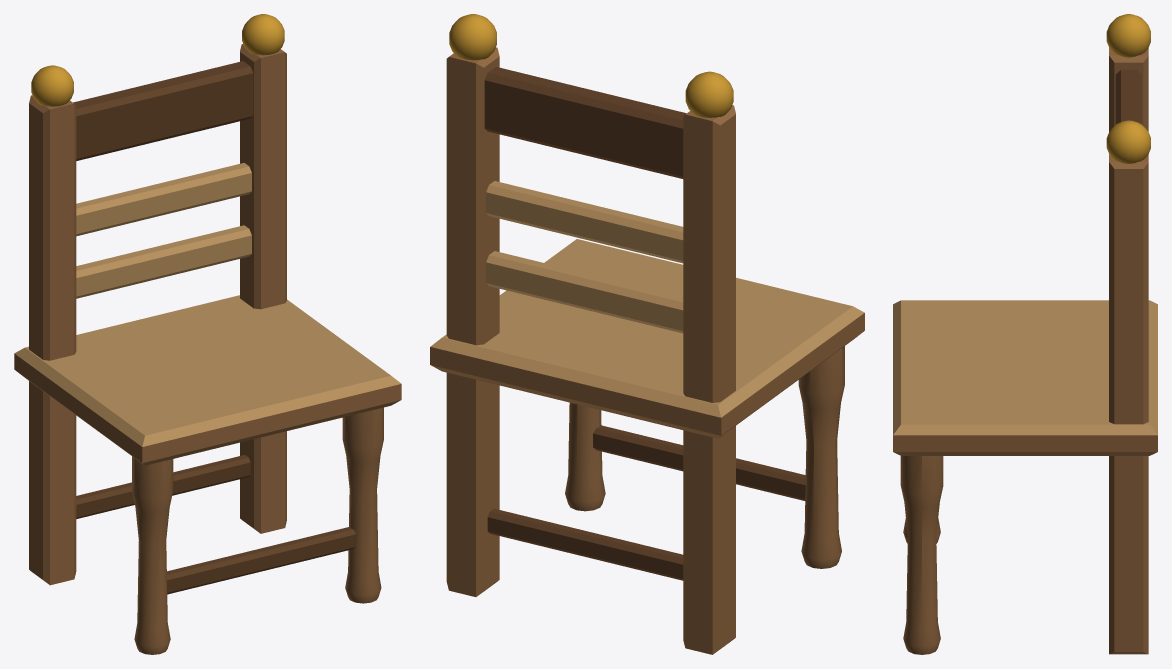
The model's file is Chair_15.glb.
The picture shows the model from 3 angles, left to right: view 1: azimuth 30°, elevation 25°; view 2: azimuth 150°, elevation 25°; view 3: azimuth 270°, elevation 25°; orthographic projection. The views are drawn at different scales.
Parts seen in each view (by area): view 1: Chair_15; view 2: Chair_15; view 3: Chair_15.
Part boxes in pixels (box(x1,y1,x2,y2)): Chair_15: box(14, 14, 401, 654); Chair_15: box(430, 14, 864, 654); Chair_15: box(893, 14, 1157, 654).
Size of the model in its own units: 2.34 by 4.38 by 2.
